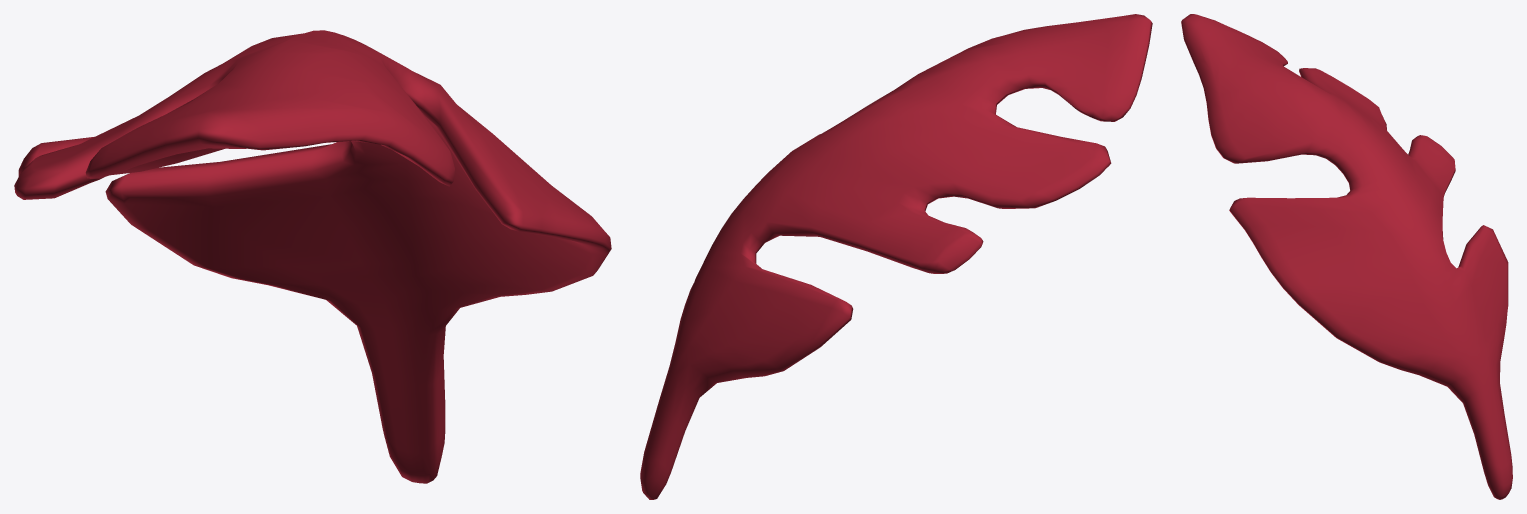
File: Leaf_12.fbx
3 views of the same model, side by side, from view 1: azimuth 30°, elevation 25°; view 2: azimuth 150°, elevation 25°; view 3: azimuth 270°, elevation 25° (orthographic). The views are drawn at different scales.
Visible parts, largest first — view 1: Leaf_12; view 2: Leaf_12; view 3: Leaf_12.
Boxes of the visible parts, x1,y1,x2,y2 form: Leaf_12: (14, 30, 611, 483); Leaf_12: (640, 14, 1152, 499); Leaf_12: (1181, 14, 1512, 499).
Bounding box in the file's own units: 196 × 220 × 186.
